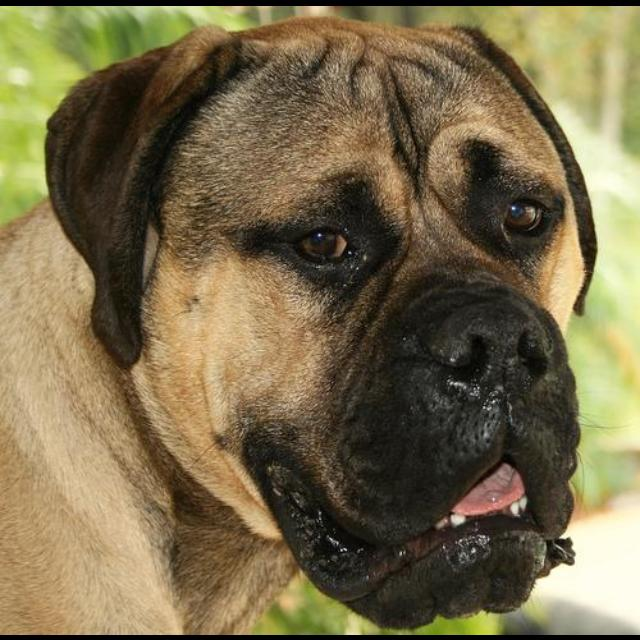bullmastiff: (2, 14, 601, 634)
